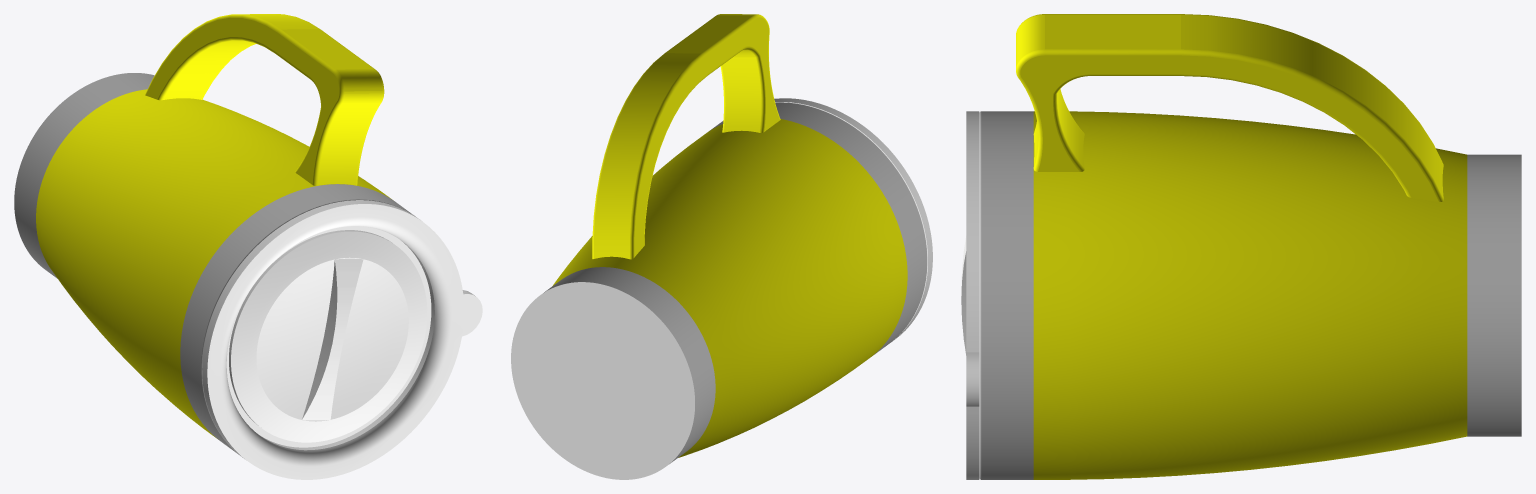
The model's file is model_scale.obj.
3 views of the same model, side by side, from view 1: azimuth 30°, elevation 25°; view 2: azimuth 150°, elevation 25°; view 3: azimuth 270°, elevation 25° (orthographic). The views are drawn at different scales.
Visible parts, largest first — view 1: mesh6_mesh6-geometry, mesh1_mesh1-geometry, mesh32_mesh32-geometry, mesh21_mesh21-geometry, mesh11_mesh11-geometry, mesh19_mesh19-geometry; view 2: mesh6_mesh6-geometry, mesh11_mesh11-geometry, mesh21_mesh21-geometry, mesh32_mesh32-geometry; view 3: mesh6_mesh6-geometry, mesh11_mesh11-geometry, mesh21_mesh21-geometry, mesh32_mesh32-geometry.
Boxes of the visible parts, x1,y1,x2,y2 form: mesh6_mesh6-geometry: (36,89,390,438); mesh1_mesh1-geometry: (229,230,427,442); mesh32_mesh32-geometry: (202,200,482,479); mesh21_mesh21-geometry: (145,14,384,185); mesh11_mesh11-geometry: (14,73,414,454); mesh19_mesh19-geometry: (302,258,363,420); mesh6_mesh6-geometry: (552,119,907,457); mesh11_mesh11-geometry: (511,102,927,479); mesh21_mesh21-geometry: (592,14,780,259); mesh32_mesh32-geometry: (774,98,932,342); mesh6_mesh6-geometry: (1033,111,1467,479); mesh11_mesh11-geometry: (979,111,1521,479); mesh21_mesh21-geometry: (1016,14,1443,201); mesh32_mesh32-geometry: (966,111,979,479).
Size of the model in its own units: 0.0731 by 0.0954 by 0.1037.
